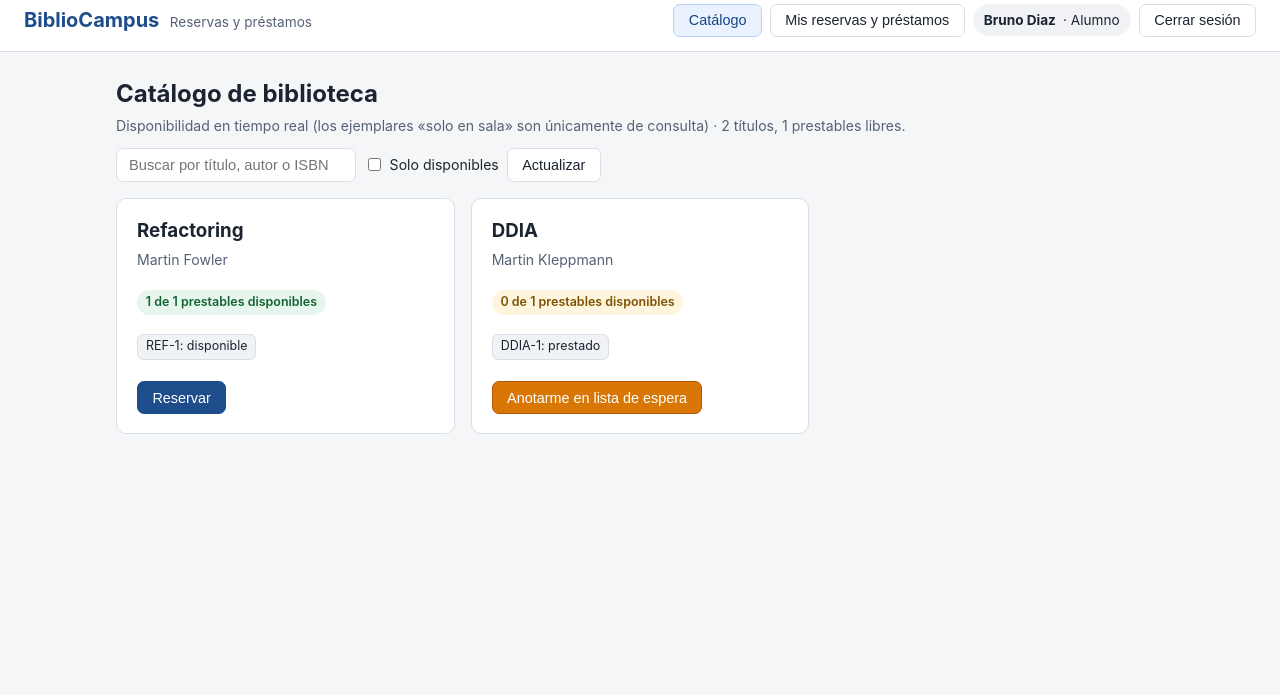
T-16 — Pantallas de lector (reservas, préstamos y lista de espera) › muestra cupo ocupado, penalidad, reservas desactivadas reactivables, avisos 24 h y renovación de préstamo
This screenshot has width=1280, height=695.
expect the text "Bruno Diaz" is shown: met, box left=984, top=10, right=1056, bottom=30
Click the button "Mis reservas y préstamos" at (867, 20), box left=770, top=4, right=964, bottom=37
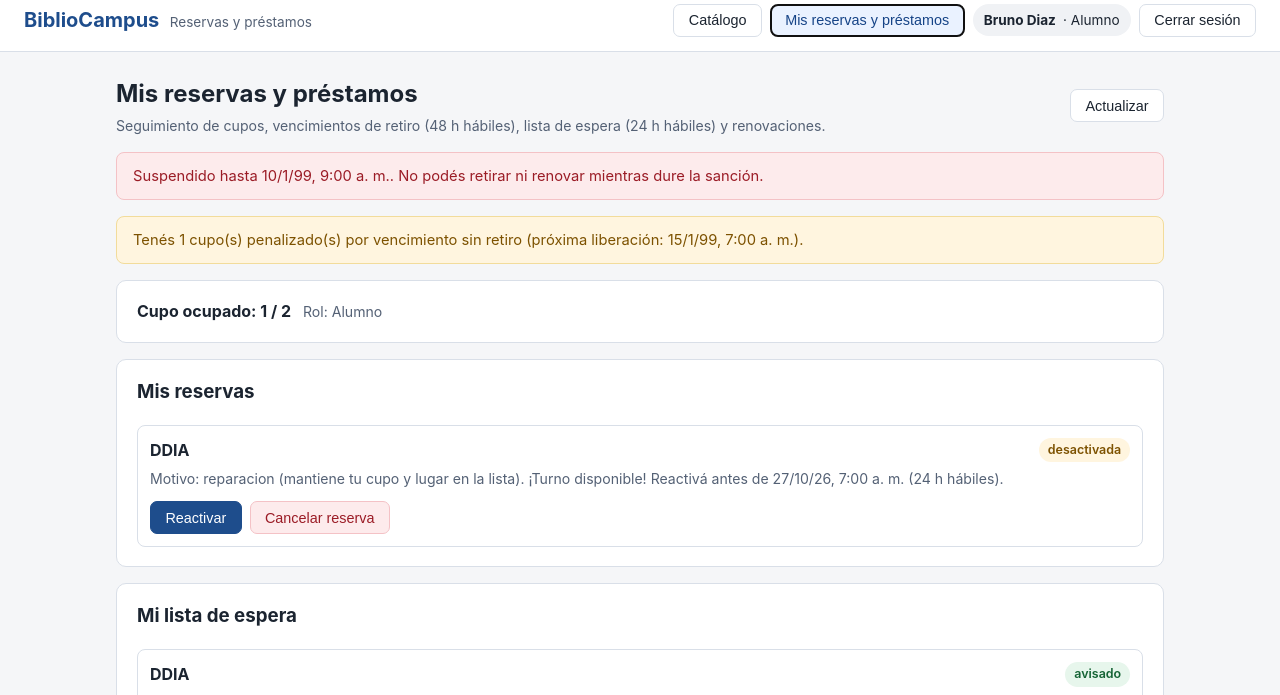
expect the text "Cupo ocupado: 1 / 2" is shown: met, box left=137, top=301, right=291, bottom=321
expect the text "Suspendido hasta" is shown: met, box left=133, top=167, right=262, bottom=185
expect the text "1 cupo(s) penalizado" is shown: met, box left=116, top=216, right=1164, bottom=264
Click the button "Reactivar" at (196, 518), box left=150, top=501, right=242, bottom=534
(page scrolled)
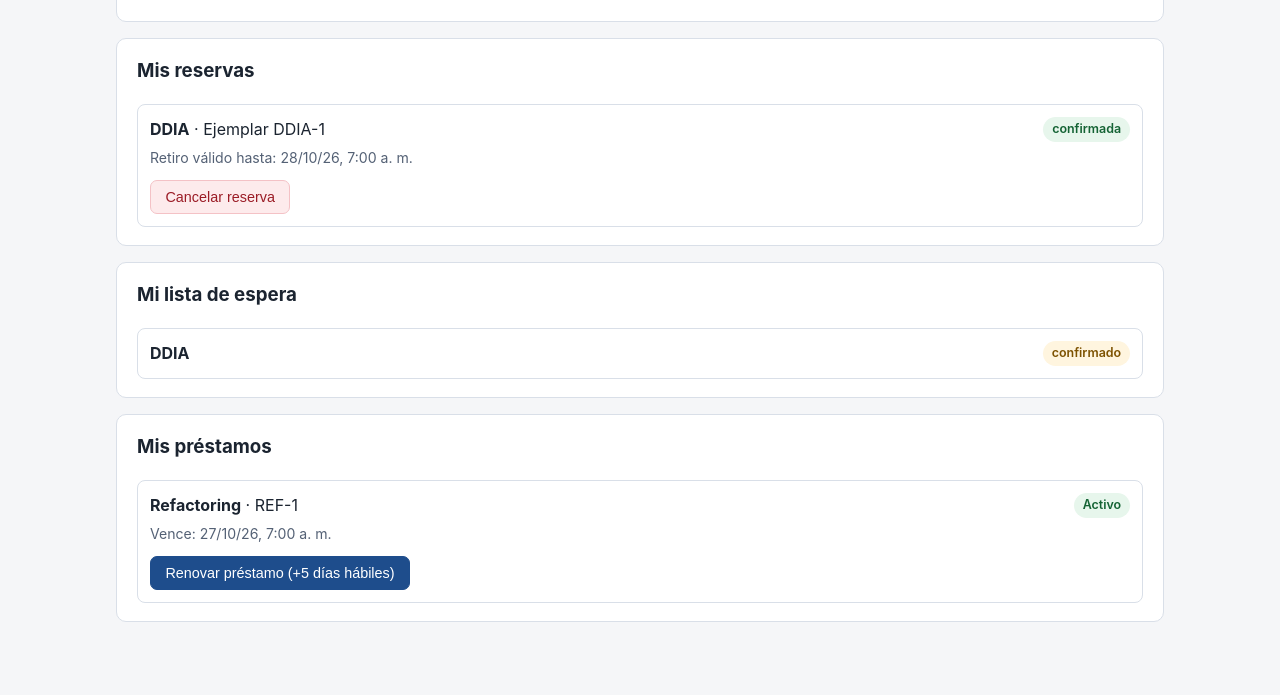
Click the button "Renovar préstamo (+5 días hábiles)" at (280, 573), box left=150, top=556, right=410, bottom=590
(page scrolled)
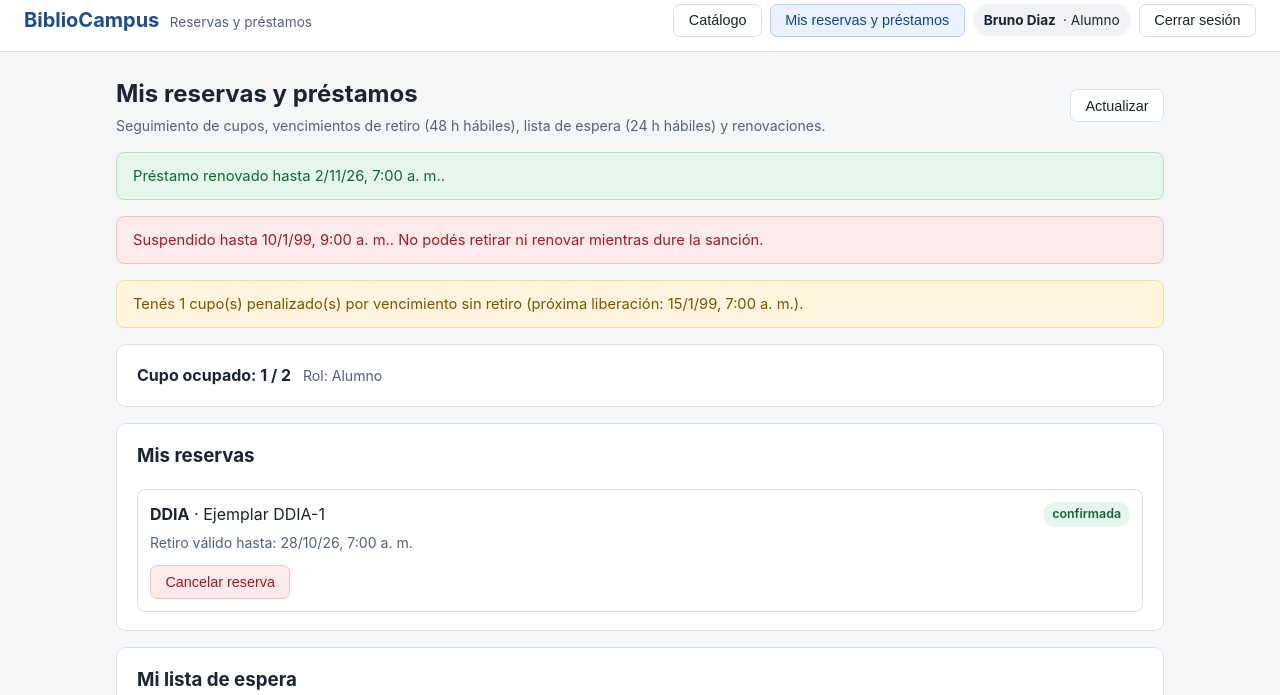
expect the text "Préstamo renovado hasta 2/11/26, 7:00 a. m.." is shown: met, box left=116, top=152, right=1164, bottom=200
